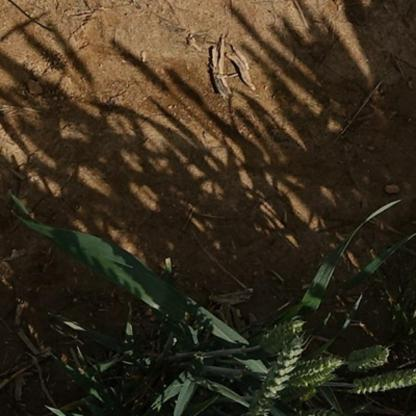whd: (254, 338, 308, 416), (289, 358, 341, 387), (281, 373, 334, 401), (350, 371, 414, 394), (262, 314, 306, 344), (344, 342, 391, 370)
